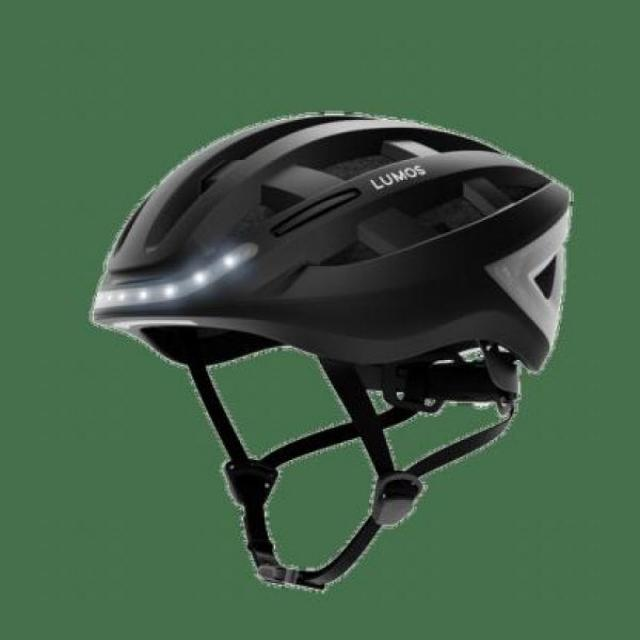Helmet: (81, 110, 571, 512)
